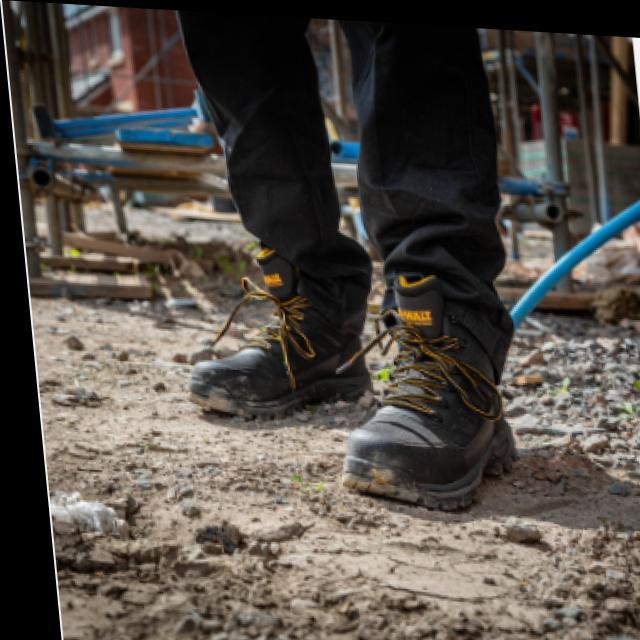boots: (164, 231, 535, 518)
